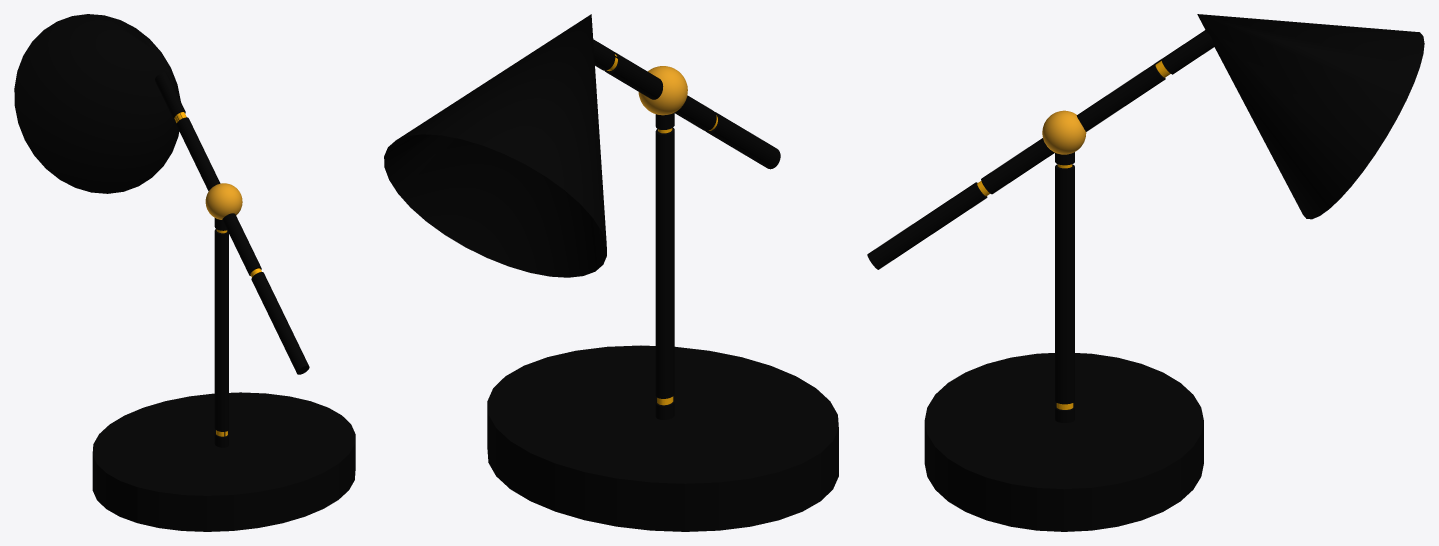
Rendered from lamp01.fbx.
3 views of the same model, side by side, from view 1: azimuth 30°, elevation 25°; view 2: azimuth 150°, elevation 25°; view 3: azimuth 270°, elevation 25° (orthographic). The views are drawn at different scales.
Parts seen in each view (by area): view 1: Cylinder, Cone, Cylinder.002, Cylinder.001, Sphere; view 2: Cylinder, Cone, Cylinder.001, Cylinder.002, Sphere; view 3: Cylinder, Cone, Cylinder.002, Cylinder.001, Sphere.
Part boxes in pixels (x1,y1,x2,y2): Cylinder: (92,392,355,531); Cone: (14,14,180,193); Cylinder.002: (155,72,309,374); Cylinder.001: (214,218,228,447); Sphere: (205,183,242,219); Cylinder: (487,345,838,531); Cone: (384,14,606,277); Cylinder.001: (655,112,674,419); Cylinder.002: (593,39,780,169); Sphere: (638,66,687,115); Cylinder: (924,353,1203,531); Cone: (1197,14,1424,219); Cylinder.002: (867,30,1214,269); Cylinder.001: (1055,152,1074,422); Sphere: (1042,110,1086,154).
Bounding box in the file's own units: 157 × 240 × 271.
